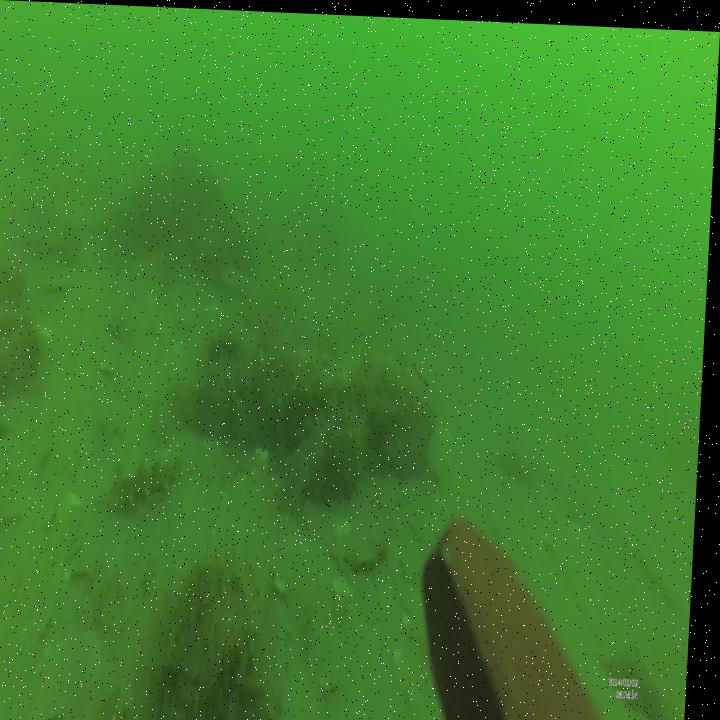echinus: (207, 324, 243, 366)
holothurian: (102, 448, 190, 513)
